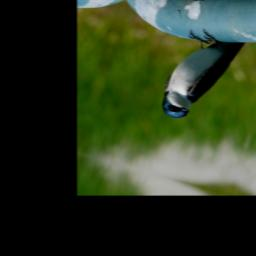Swallow: (154, 22, 246, 131)
